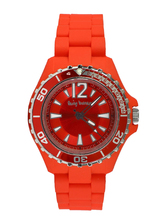watch: (21, 10, 141, 212)
